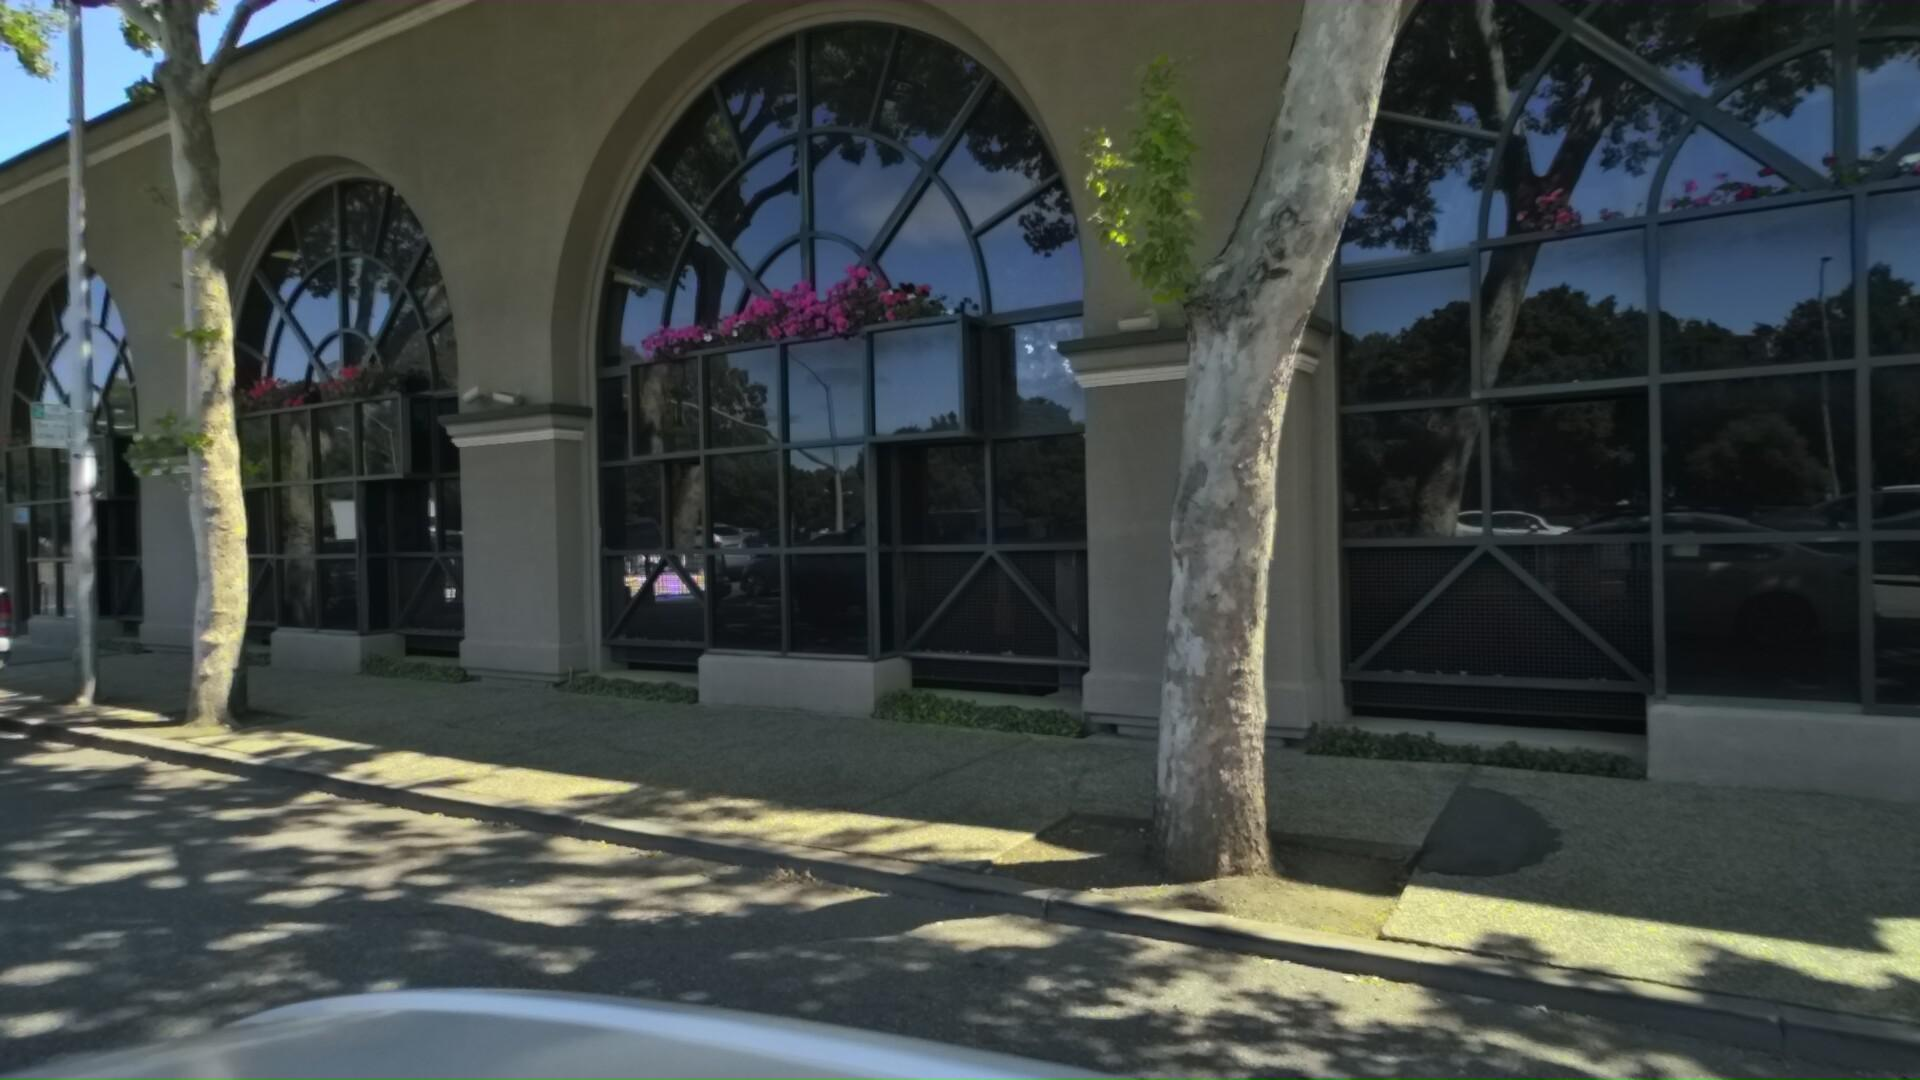car: (0, 500, 54, 791)
